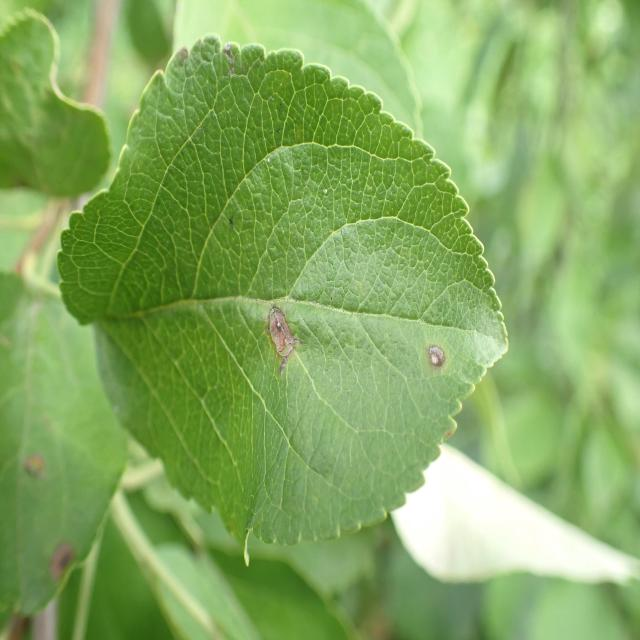Black Rot: (257, 301, 311, 385), (49, 526, 84, 605), (414, 328, 453, 396)
